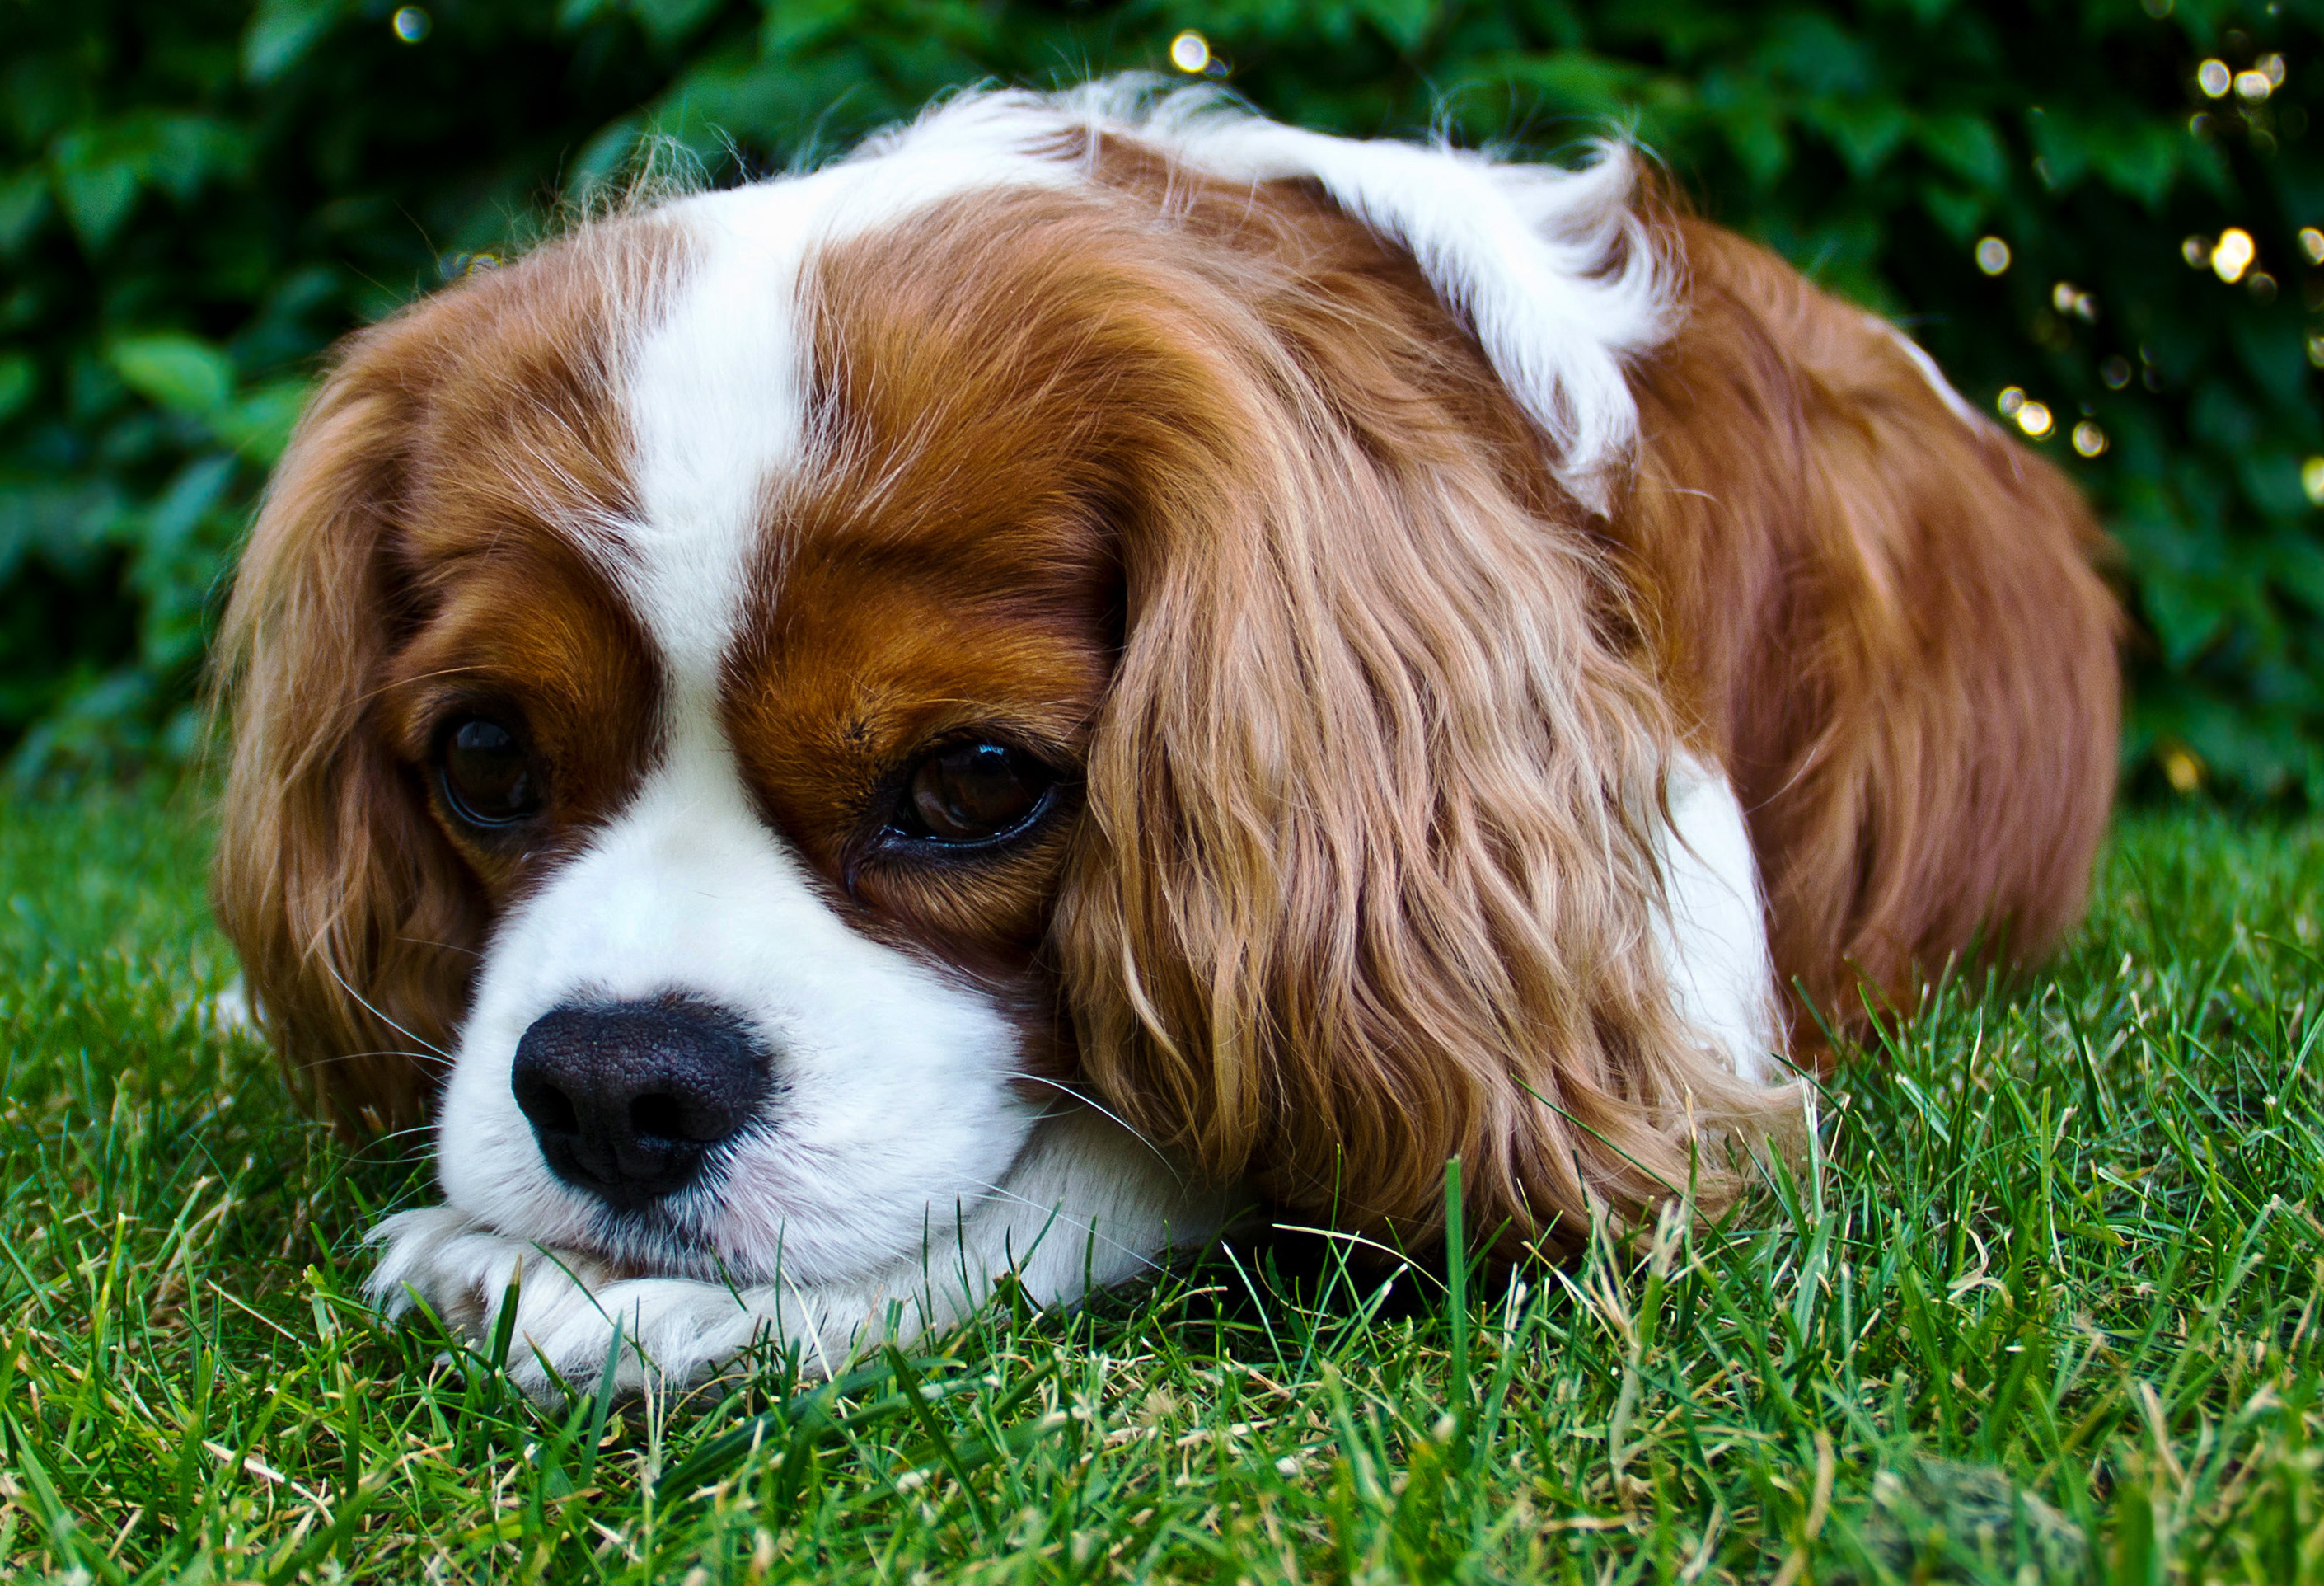dog: (0, 0, 2324, 1586)
